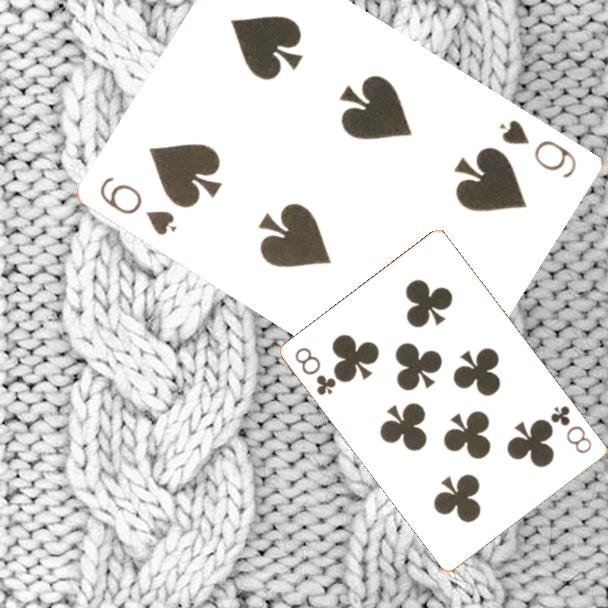c08: (292, 343, 340, 399), (547, 402, 595, 457)
s06: (96, 173, 180, 239), (496, 116, 580, 181)
